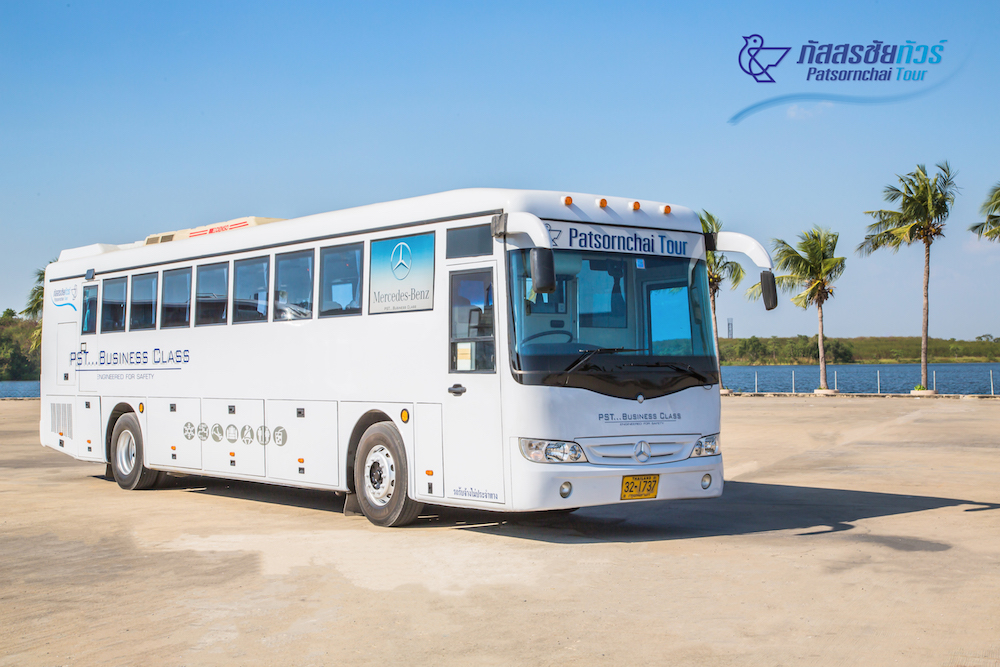bus: (36, 187, 726, 526)
